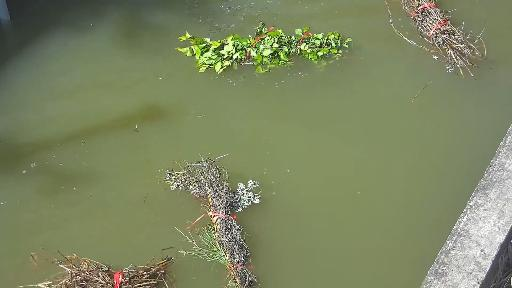twig: (164, 154, 270, 288), (190, 28, 378, 78), (365, 0, 482, 79), (37, 246, 190, 288)
